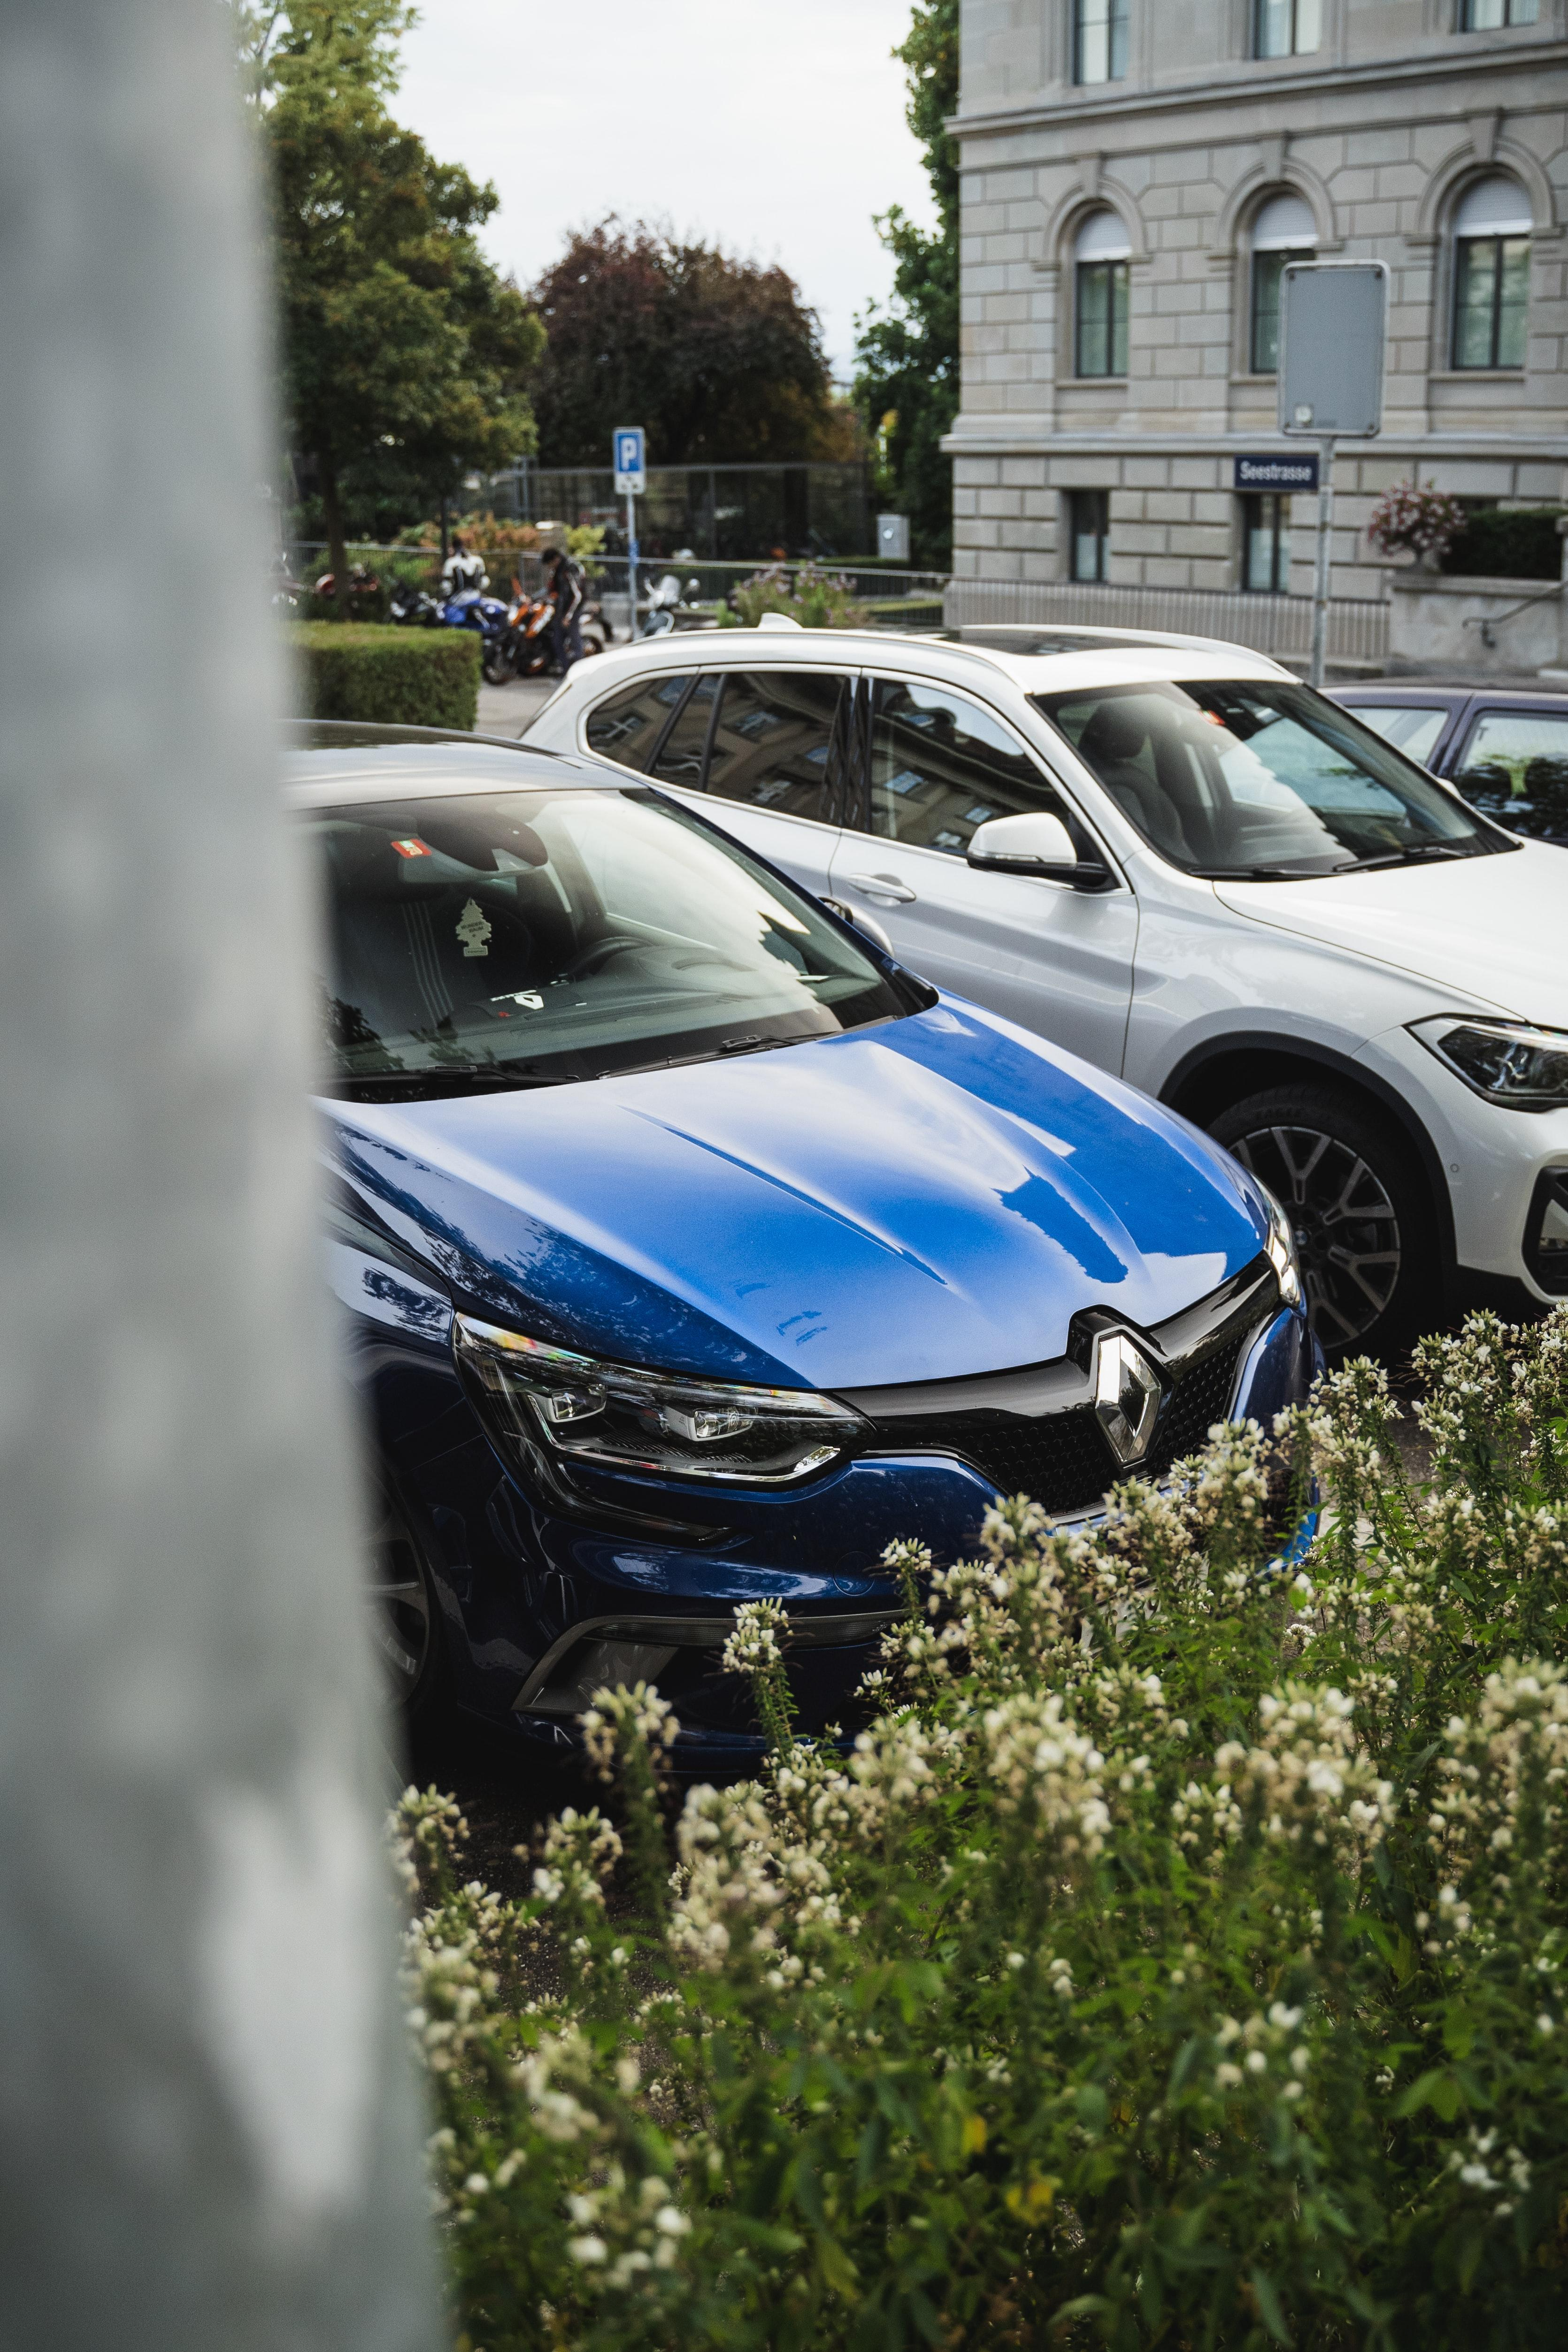Renault: (1052, 1295, 1195, 1484)
